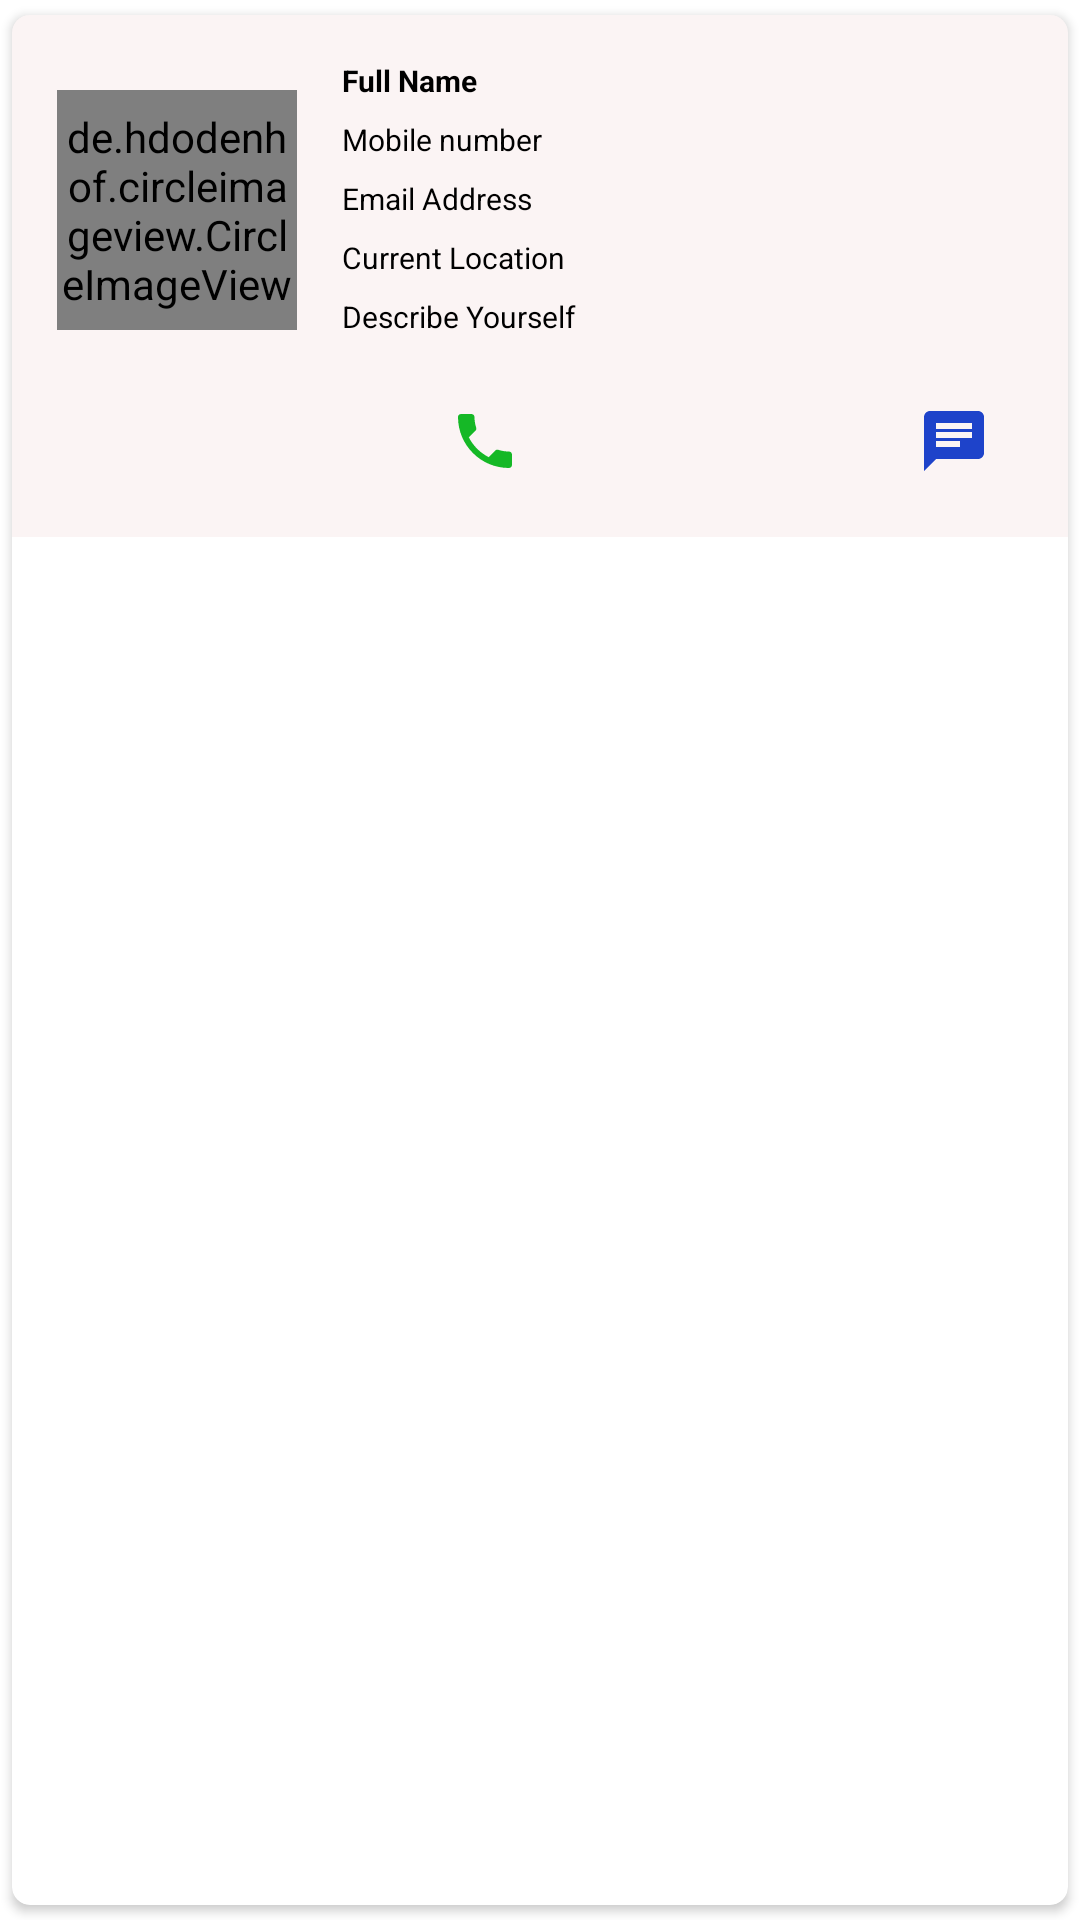

Named icons in this screenshot (1080px×1920px) and their bounding boxes, box=[x1, y1, x2, y2]:
chat: box=[924, 411, 984, 471]
phone: box=[458, 414, 512, 468]
